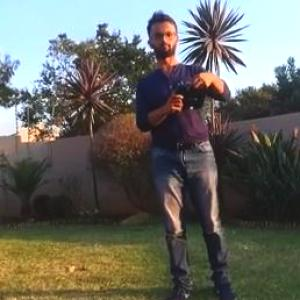follow: (130, 0, 247, 299)
